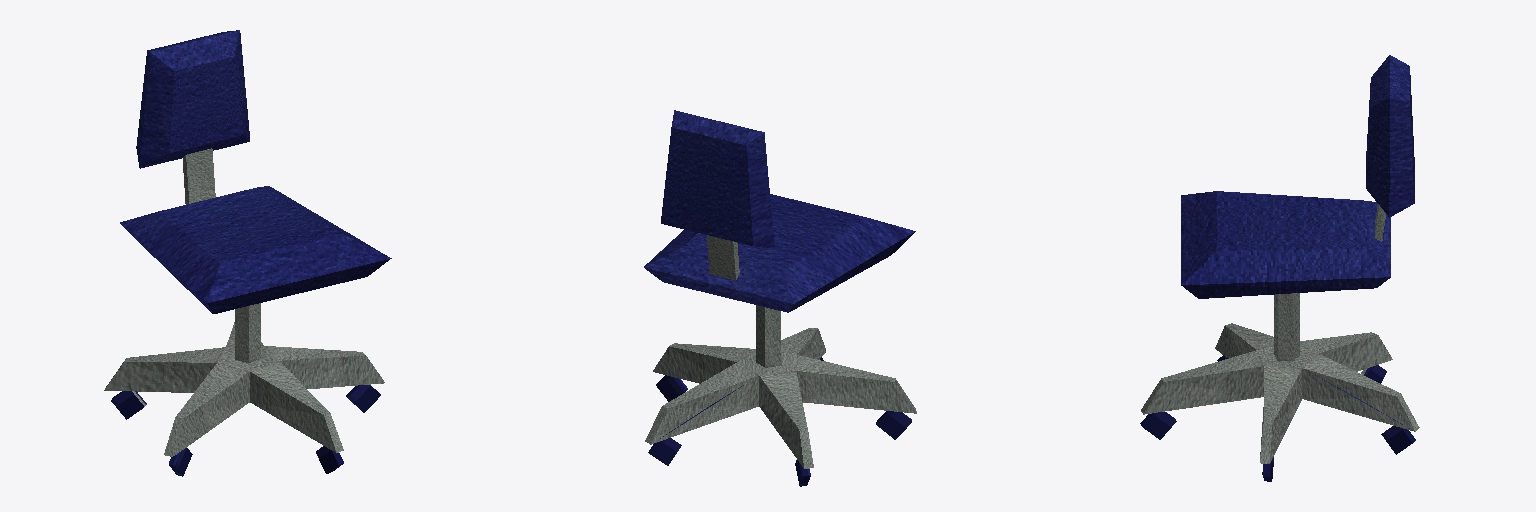
The picture shows the model from 3 angles: view 1: azimuth 30°, elevation 25°; view 2: azimuth 150°, elevation 25°; view 3: azimuth 270°, elevation 25°; orthographic projection.
Bounding box in the file's own units: 1.64 × 2.28 × 1.64.
1 materials, 1 textured.